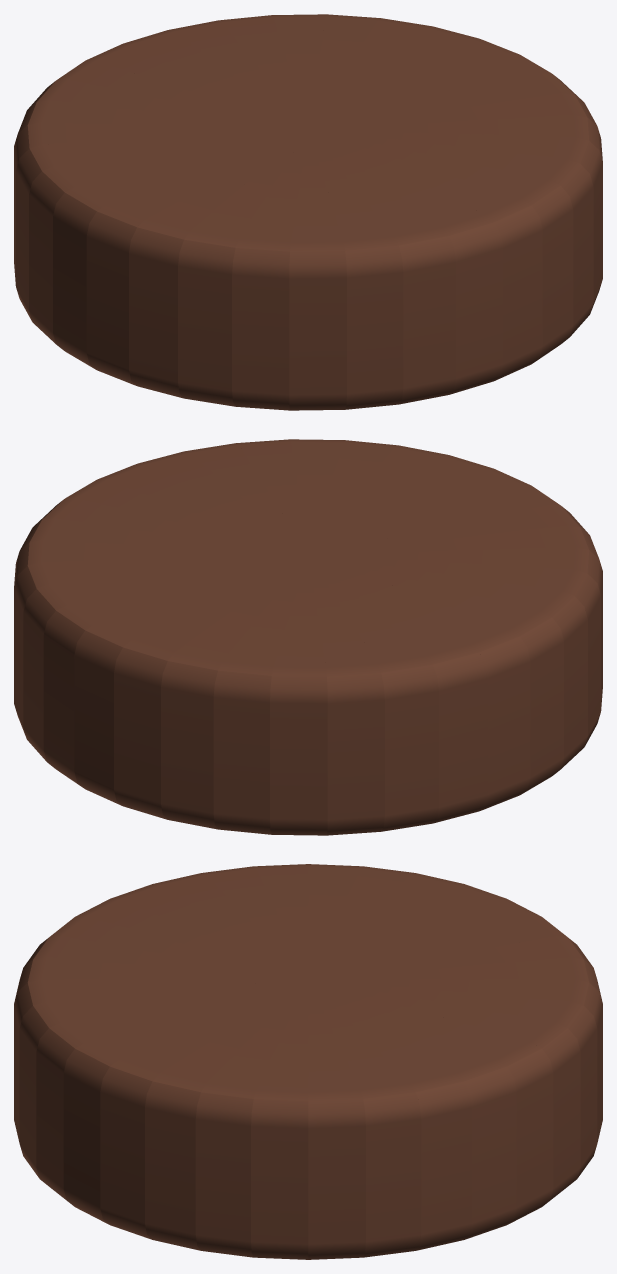
The model's file is Pandispanya_32P_Circle.fbx.
The picture shows the model from 3 angles, top to bottom: view 1: azimuth 30°, elevation 25°; view 2: azimuth 150°, elevation 25°; view 3: azimuth 270°, elevation 25°; orthographic projection.
Parts seen in each view (by area): view 1: pCylinder69, pCylinder68, pCylinder70, pCylinder67, pCylinder71, pCylinder66, pCylinder72, pCylinder65, pCylinder73, pCylinder64, pCylinder74, pCylinder63 (+20 smaller); view 2: pCylinder58, pCylinder59, pCylinder57, pCylinder60, pCylinder56, pCylinder61, pCylinder55, pCylinder62, pCylinder54, pCylinder63, pCylinder53, pCylinder64 (+20 smaller); view 3: pCylinder48, pCylinder79, pCylinder49, pCylinder78, pCylinder50, pCylinder77, pCylinder51, pCylinder76, pCylinder52, pCylinder75, pCylinder53, pCylinder74 (+20 smaller).
Boxes of the visible parts, x1,y1,x2,y2 form: pCylinder69: (289,130,346,410); pCylinder68: (232,130,308,410); pCylinder70: (308,130,403,409); pCylinder67: (178,130,307,406); pCylinder71: (309,130,455,404); pCylinder66: (129,130,307,398); pCylinder72: (309,130,502,394); pCylinder65: (86,130,306,385); pCylinder73: (309,130,542,380); pCylinder64: (53,130,306,369); pCylinder74: (310,130,573,362); pCylinder63: (29,130,306,343); pCylinder58: (270,555,327,835); pCylinder59: (308,555,384,835); pCylinder57: (213,555,308,834); pCylinder60: (309,555,438,831); pCylinder56: (161,555,307,829); pCylinder61: (309,555,487,823); pCylinder55: (114,555,307,819); pCylinder62: (310,555,530,810); pCylinder54: (74,555,307,805); pCylinder63: (310,555,563,794); pCylinder53: (43,555,306,787); pCylinder64: (310,555,587,768); pCylinder48: (308,979,365,1259); pCylinder79: (251,980,308,1259); pCylinder49: (309,980,421,1257); pCylinder78: (195,980,307,1257); pCylinder50: (309,980,471,1250); pCylinder77: (145,980,307,1250); pCylinder51: (310,980,516,1239); pCylinder76: (100,980,306,1239); pCylinder52: (310,980,553,1224); pCylinder75: (63,980,306,1224); pCylinder53: (310,979,580,1201); pCylinder74: (36,979,306,1201).
Size of the model in its own units: 2 by 0.6191 by 2.
